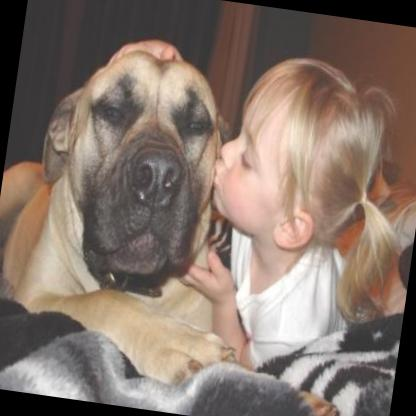bull_mastiff: (0, 31, 274, 393)
